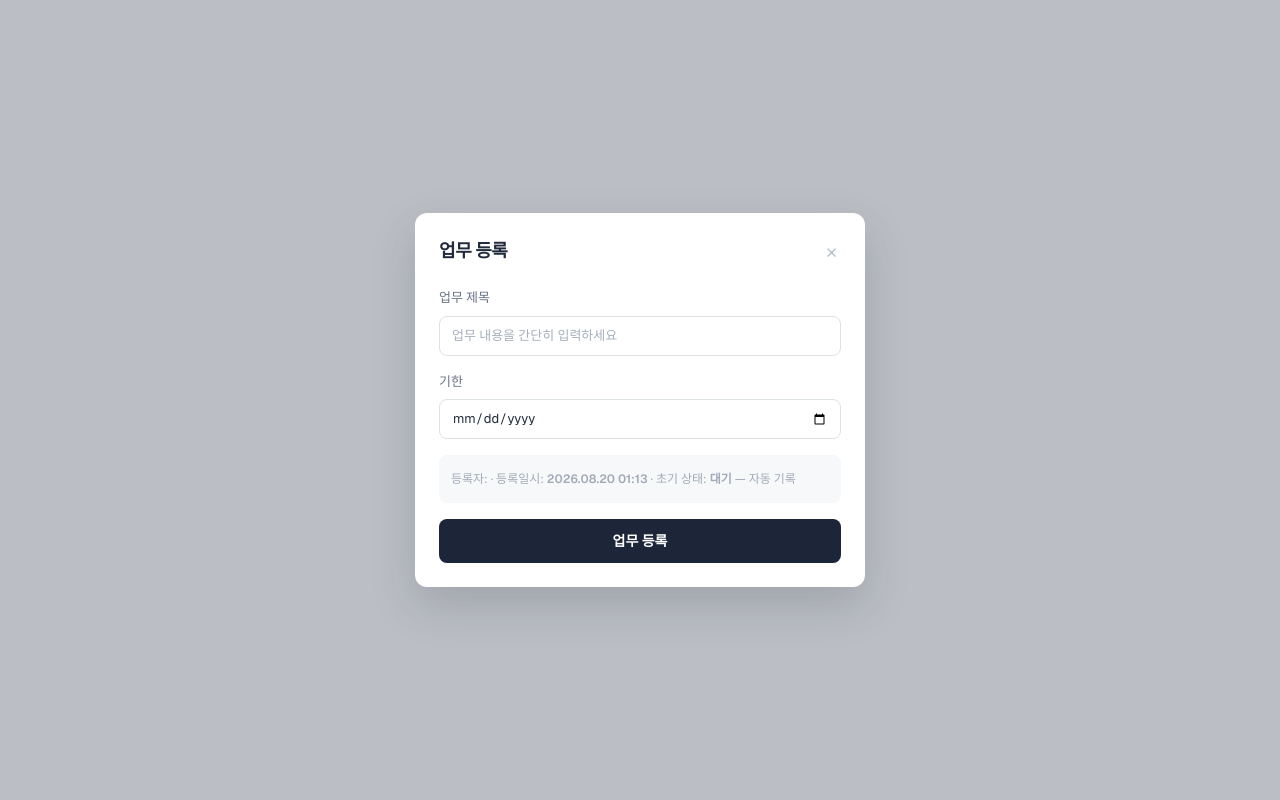
Test: CreateTaskModal › 등록 실패 시 에러 메시지를 표시하고 모달을 유지한다
The image size is (1280, 800).
Type "신규 업무" into the field labelled "업무 제목" at point(640, 336), box [439,316,841,356]
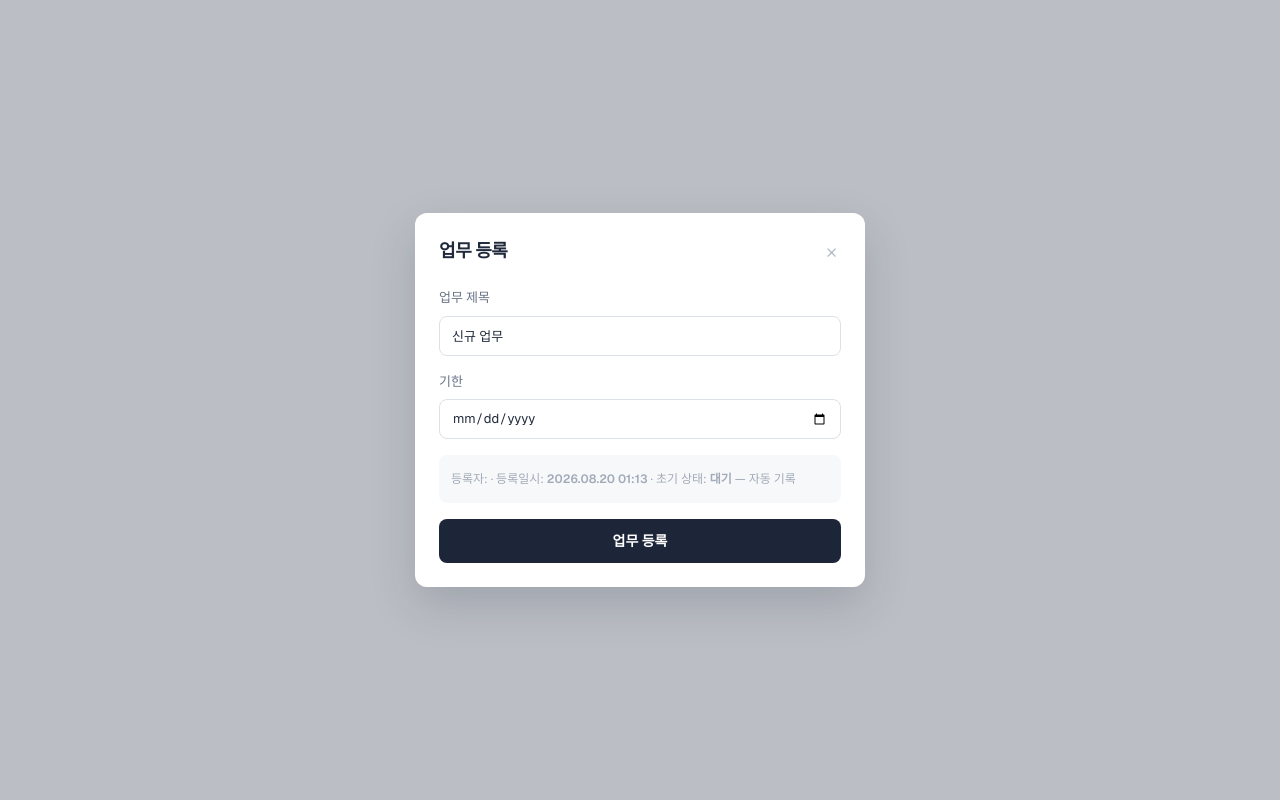
Type "2026-08-20" into the date field labelled "기한" at point(640, 419), box [439,399,841,439]
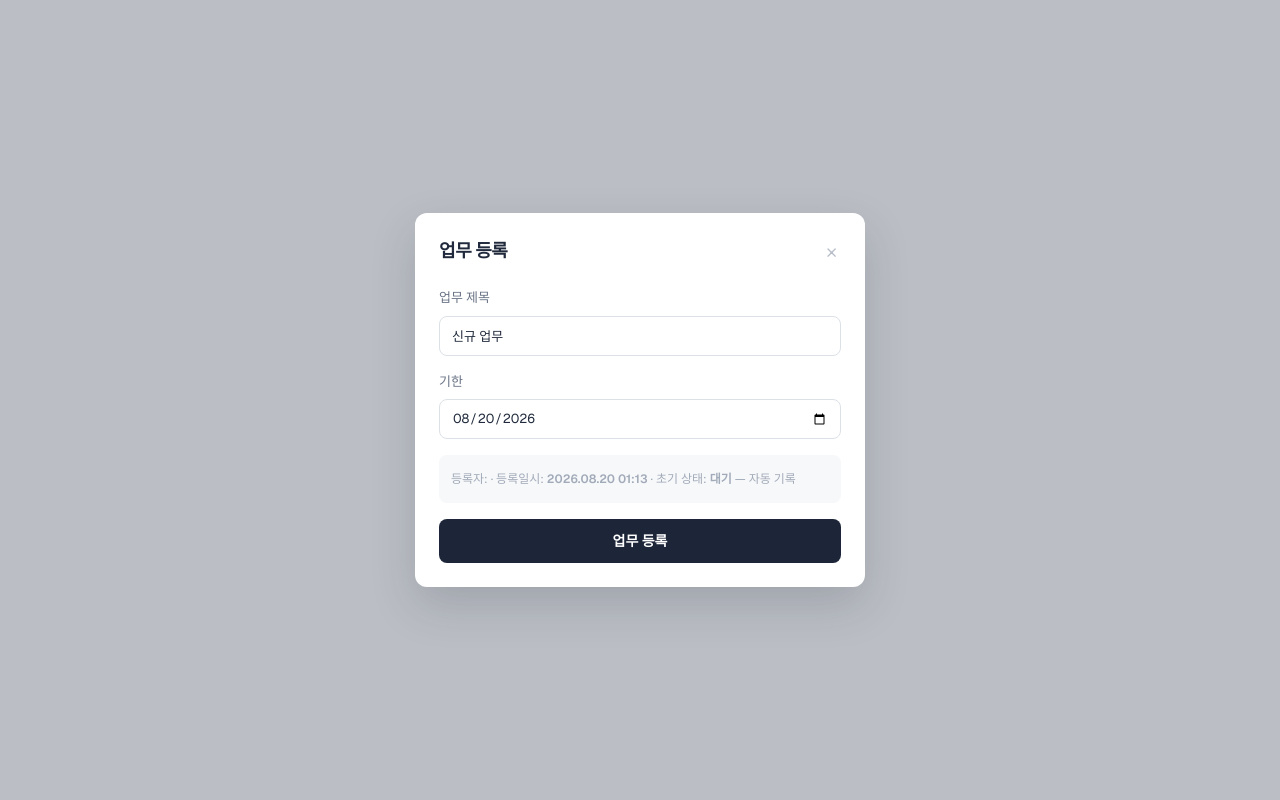
Submit the form "업무 등록", box [415,213,865,587]
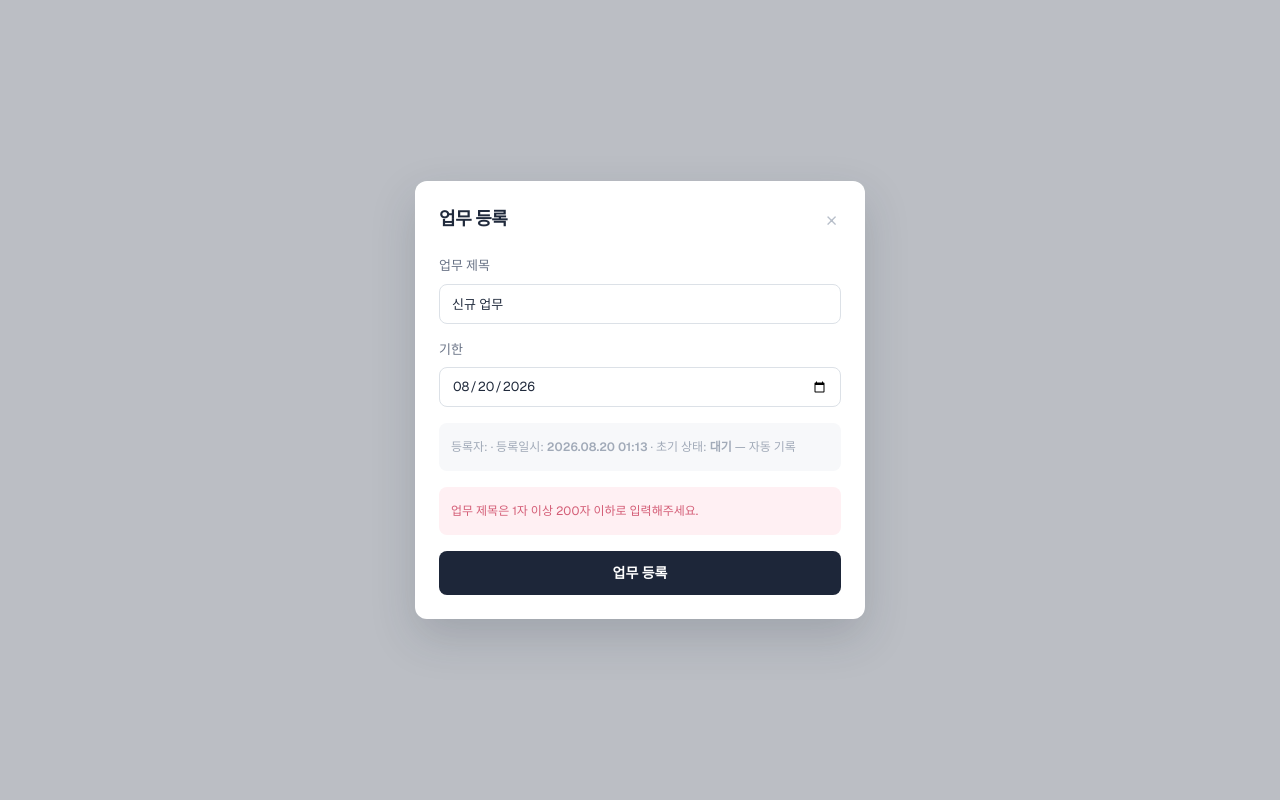
Result: the text "업무 제목은 1자 이상 200자 이하로 입력해주세요." is shown at [439,487,841,535]
